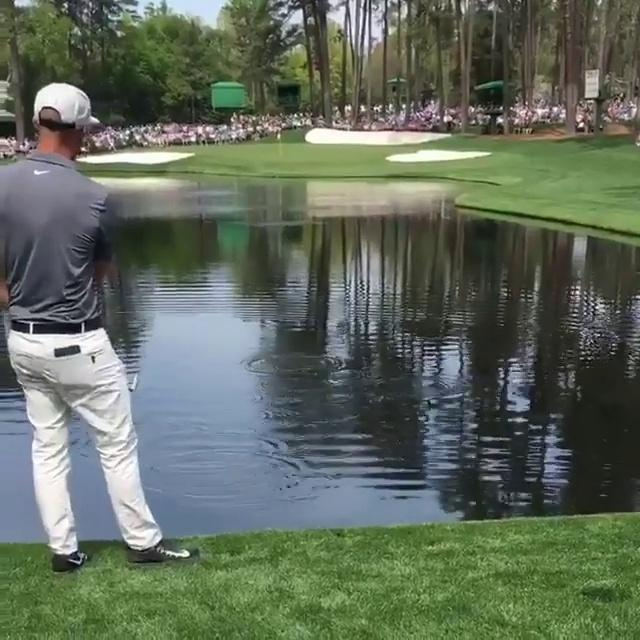golf club-head: (129, 372, 141, 393)
